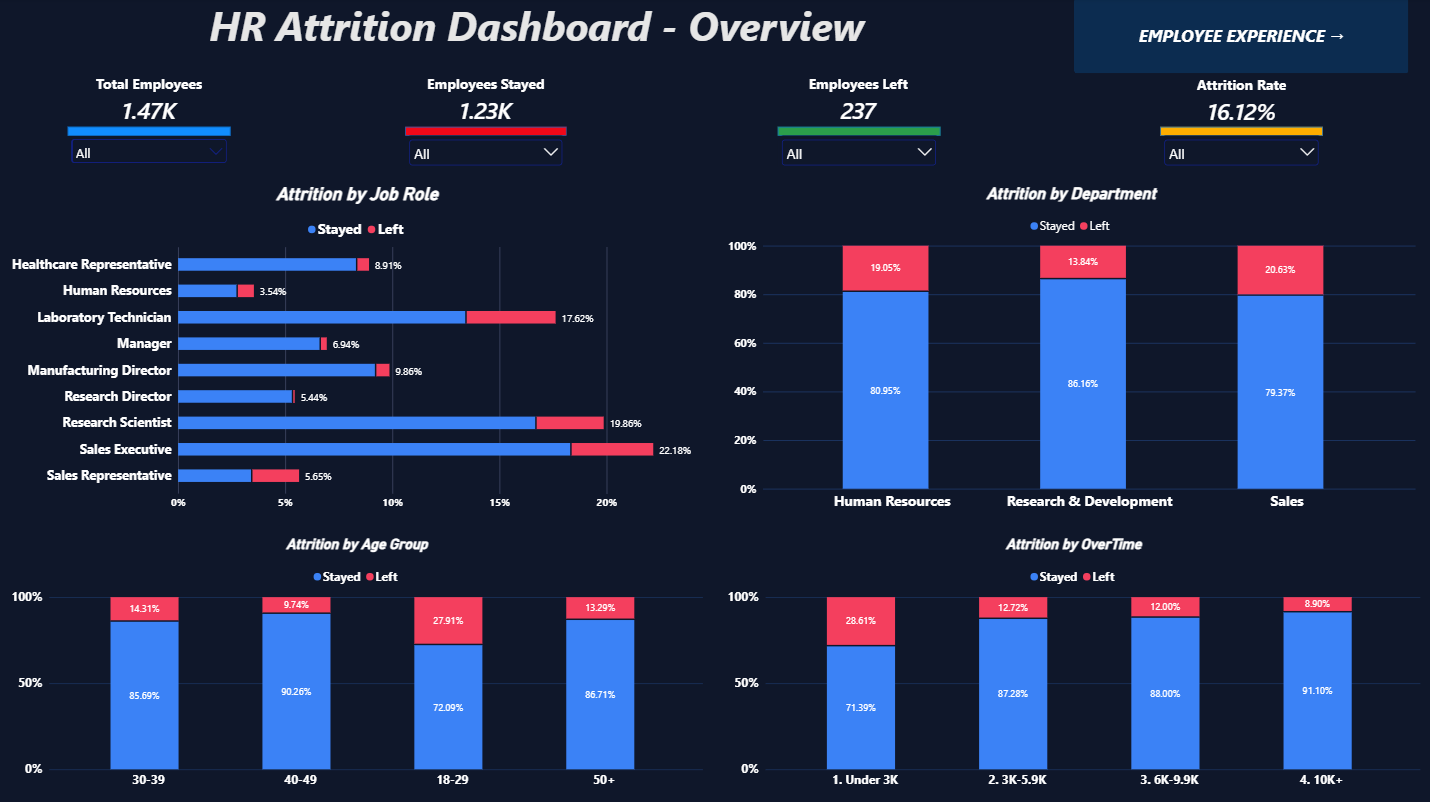

This screenshot's page, from the dashboard's own definition file:
{"tool":"powerbi","page":{"name":"Overview","canvas":[1920,1080],"ordinal":0},"visuals":[{"type":"textbox","box":[0,0,1440.7,101.2],"z":0},{"type":"actionButton","box":[1440.7,0,448.3,101.2],"z":1000},{"type":"cardVisual","fields":{"Data":["Data.Total Employees"]},"box":[92.4,101.2,218,71.5],"z":2000},{"type":"cardVisual","fields":{"Data":["Data.Attrition Rate"]},"box":[1555.8,102.9,218,71.5],"z":3000},{"type":"cardVisual","fields":{"Data":["Data.Employees Left"]},"box":[1043,101.2,216.3,71.5],"z":4000},{"type":"cardVisual","fields":{"Data":["Data.Employees Stayed"]},"box":[544.2,101.2,216.3,71.5],"z":5000},{"type":"shape","box":[92.4,172.7,218,12.2],"z":6000},{"type":"shape","box":[544.2,172.7,216.3,12.2],"z":7000},{"type":"shape","box":[1043,172.7,218,12.2],"z":8000},{"type":"shape","box":[1555.8,172.7,218,12.2],"z":9000},{"type":"slicer","fields":{"Values":["Data.Gender"]},"box":[92.4,184.9,218,48.8],"z":10000},{"type":"slicer","fields":{"Values":["Data.OverTime"]},"box":[544.2,184.9,216.3,48.8],"z":11000},{"type":"slicer","fields":{"Values":["Data.Department"]},"box":[1043,184.9,218,48.8],"z":12000},{"type":"slicer","fields":{"Values":["Data.JobRole"]},"box":[1555.8,184.9,218,48.8],"z":13000},{"type":"barChart","title":"Attrition by Job Role","fields":{"Category":["Data.JobRole"],"Series":["Data.Status"],"Y":["CountNonNull(Data.EmployeeNumber)"]},"box":[0,234.1,960,471.9],"z":14000},{"type":"hundredPercentStackedColumnChart","title":"Attrition by Department","fields":{"Category":["Data.Department"],"Series":["Data.Status"],"Y":["CountNonNull(Data.EmployeeNumber)"]},"box":[959.3,233.7,954.1,472.7],"z":15000},{"type":"hundredPercentStackedColumnChart","title":"Attrition by Age Group","fields":{"Category":["Data.AgeGroup"],"Series":["Data.Status"],"Y":["CountNonNull(Data.EmployeeNumber)"]},"box":[0,706.4,959.3,373.3],"z":16000},{"type":"hundredPercentStackedColumnChart","title":"Attrition by OverTime","fields":{"Category":["Data.IncomeBand"],"Series":["Data.Status"],"Y":["CountNonNull(Data.EmployeeNumber)"]},"box":[959.3,706.4,961,373.3],"z":17000}]}

Visuals, with their boxes in screenshot pixels (x1, y1, x2, y2), scaled from the page's 1920x1080 canvas onto the 1430x802 screenshot:
textbox: (left=0, top=0, right=1073, bottom=75)
actionButton: (left=1073, top=0, right=1407, bottom=75)
cardVisual - Data.Total Employees: (left=69, top=75, right=231, bottom=128)
cardVisual - Data.Attrition Rate: (left=1159, top=76, right=1321, bottom=130)
cardVisual - Data.Employees Left: (left=777, top=75, right=938, bottom=128)
cardVisual - Data.Employees Stayed: (left=405, top=75, right=566, bottom=128)
shape: (left=69, top=128, right=231, bottom=137)
shape: (left=405, top=128, right=566, bottom=137)
shape: (left=777, top=128, right=939, bottom=137)
shape: (left=1159, top=128, right=1321, bottom=137)
slicer - Data.Gender: (left=69, top=137, right=231, bottom=174)
slicer - Data.OverTime: (left=405, top=137, right=566, bottom=174)
slicer - Data.Department: (left=777, top=137, right=939, bottom=174)
slicer - Data.JobRole: (left=1159, top=137, right=1321, bottom=174)
"Attrition by Job Role" barChart: (left=0, top=174, right=715, bottom=524)
"Attrition by Department" hundredPercentStackedColumnChart: (left=714, top=174, right=1425, bottom=525)
"Attrition by Age Group" hundredPercentStackedColumnChart: (left=0, top=525, right=714, bottom=801)
"Attrition by OverTime" hundredPercentStackedColumnChart: (left=714, top=525, right=1429, bottom=801)
